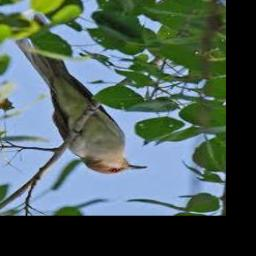Cuckoo: (16, 14, 148, 174)
